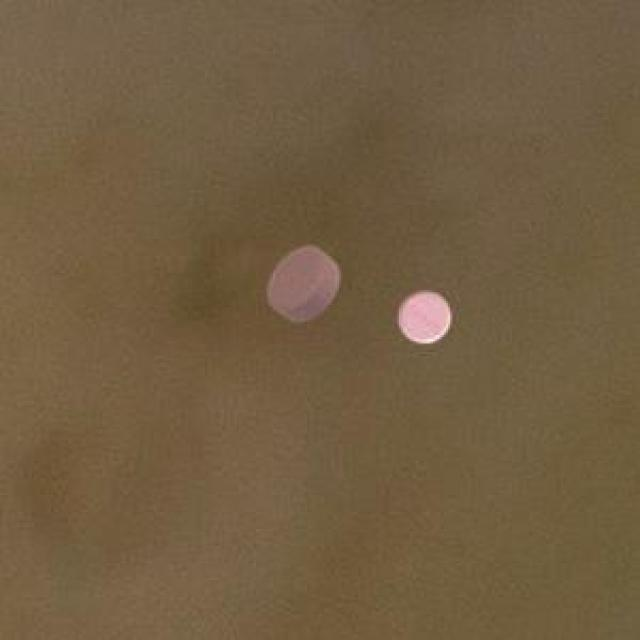Kremil_S: (256, 232, 345, 337), (389, 282, 459, 358)
